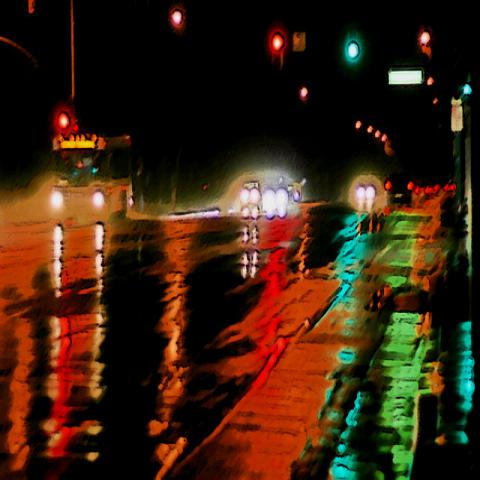bus: (51, 107, 133, 225)
car: (384, 172, 435, 207), (263, 189, 288, 222), (240, 181, 261, 208), (356, 184, 378, 201), (240, 203, 260, 218)
